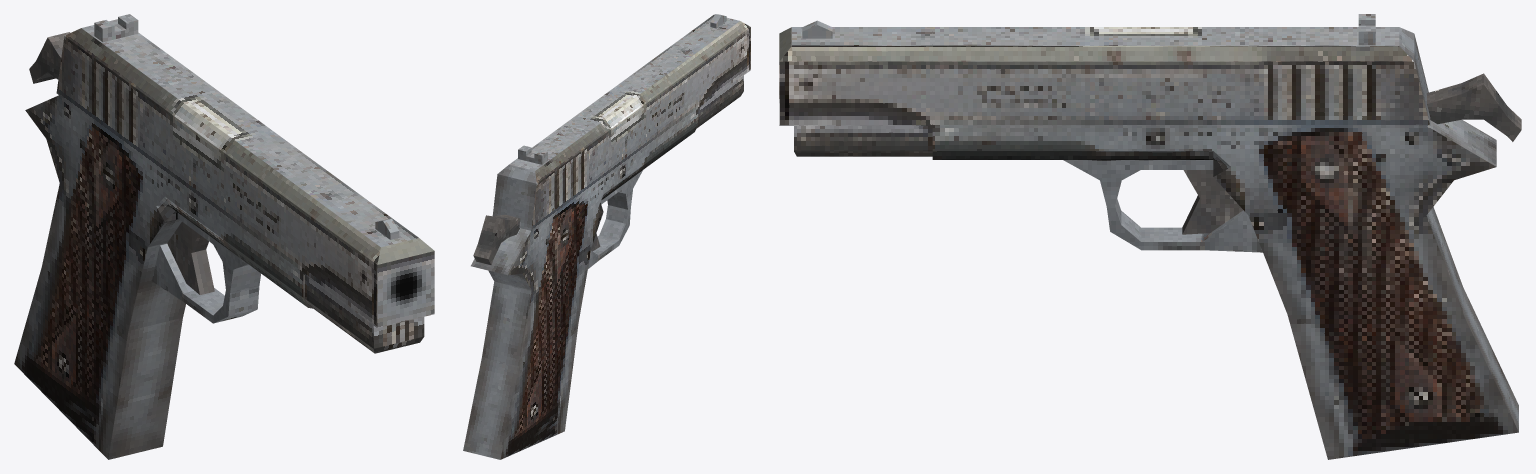
Rendered from pistol.glb.
3 views of the same model, side by side, from view 1: azimuth 30°, elevation 25°; view 2: azimuth 150°, elevation 25°; view 3: azimuth 270°, elevation 25° (orthographic). The views are drawn at different scales.
Parts seen in each view (by area): view 1: SM_Colt1911; view 2: SM_Colt1911; view 3: SM_Colt1911.
Part boxes in pixels (bbox=[...]): SM_Colt1911: bbox=[14, 14, 434, 459]; SM_Colt1911: bbox=[463, 14, 750, 459]; SM_Colt1911: bbox=[779, 14, 1521, 459].
Size of the model in its own units: 0.0335 by 0.2332 by 0.3702.
Materials: 1 (1 with a texture image).
